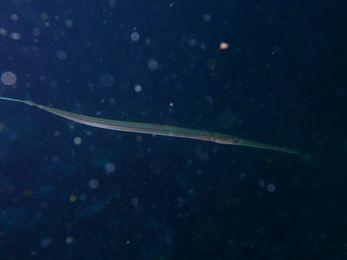Fistularia commersonii: (3, 72, 319, 183)
